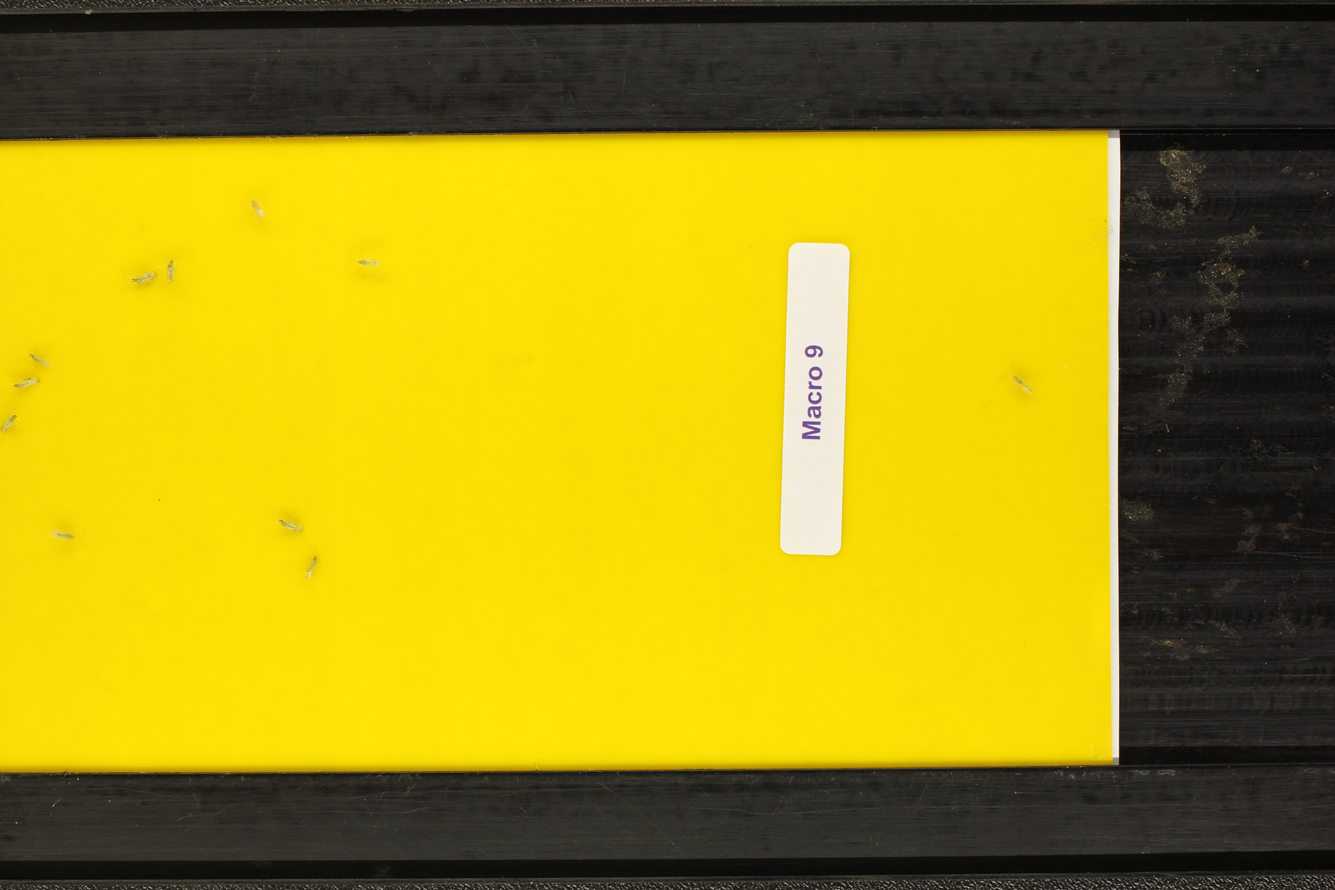MR: (993, 361, 1041, 410), (296, 540, 330, 593), (40, 517, 89, 553), (346, 250, 390, 282), (242, 190, 275, 229), (7, 368, 51, 397), (114, 264, 163, 290), (267, 510, 310, 538), (159, 251, 186, 292), (22, 347, 58, 371), (0, 408, 28, 437)
